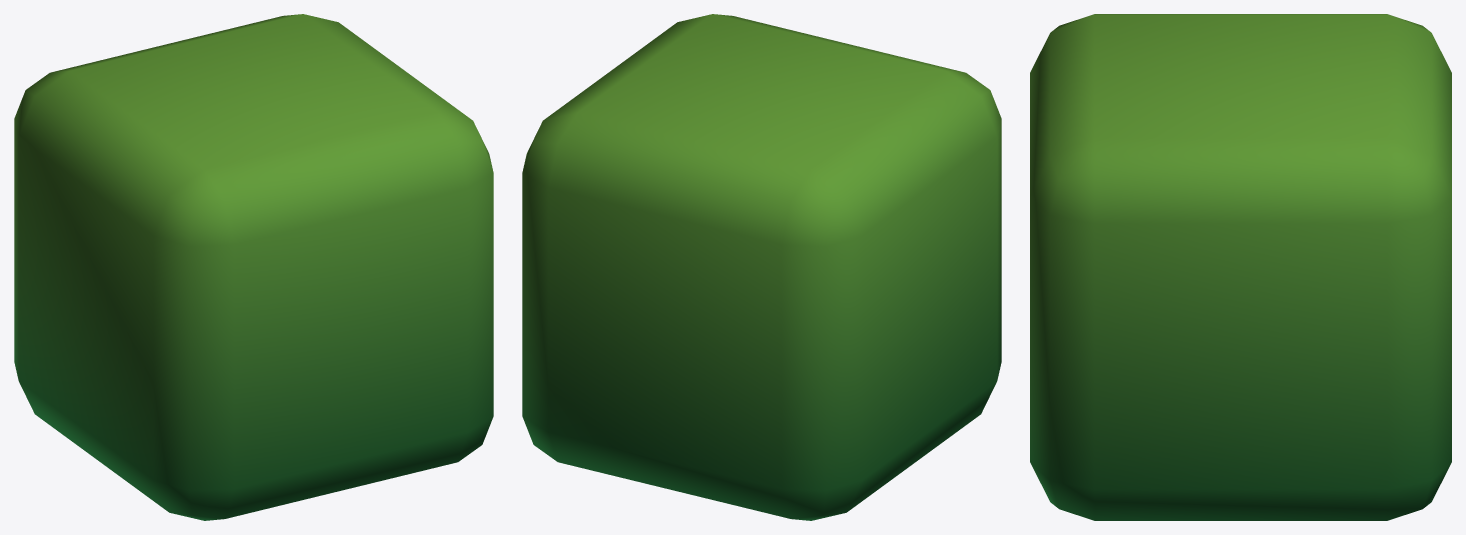
The model's file is Bush_2_C.glb.
The picture shows the model from 3 angles, left to right: view 1: azimuth 30°, elevation 25°; view 2: azimuth 150°, elevation 25°; view 3: azimuth 270°, elevation 25°; orthographic projection. The views are drawn at different scales.
Bounding box in the file's own units: 1.32 × 1.32 × 1.32.
